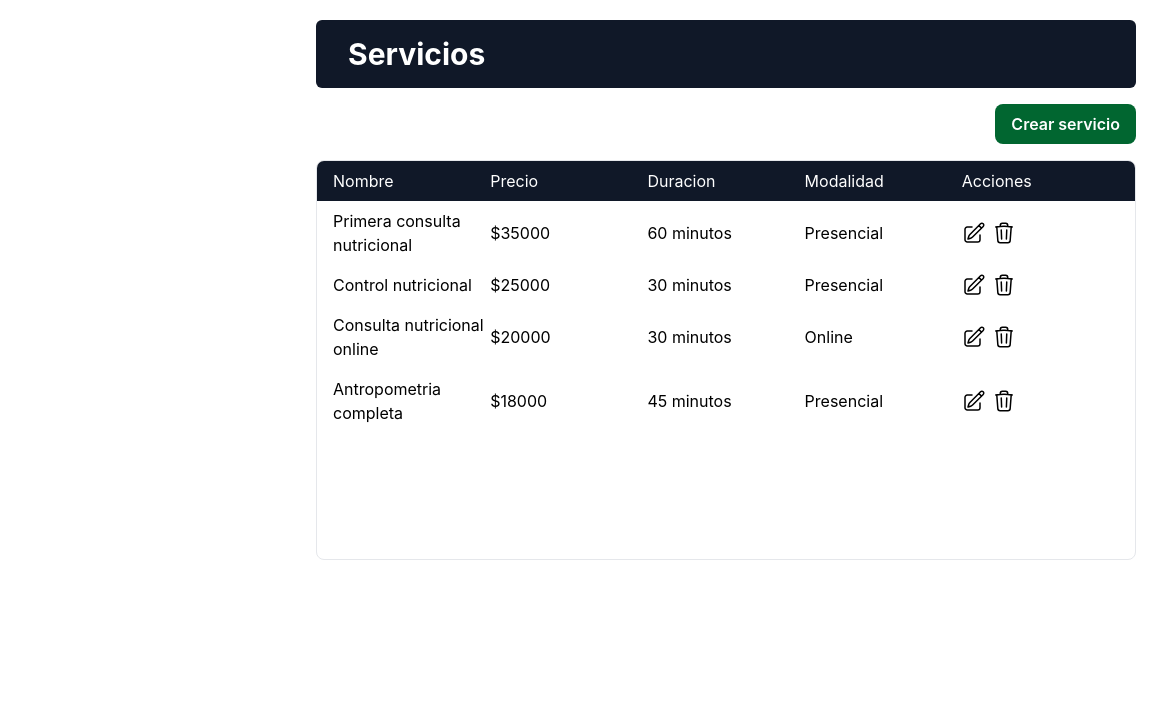
Test: AdministracionServicios › abre el formulario al presionar Crear servicio
Click the button "Crear servicio" at {"x": 1066, "y": 124}, box x1=995 y1=104 x2=1136 y2=144
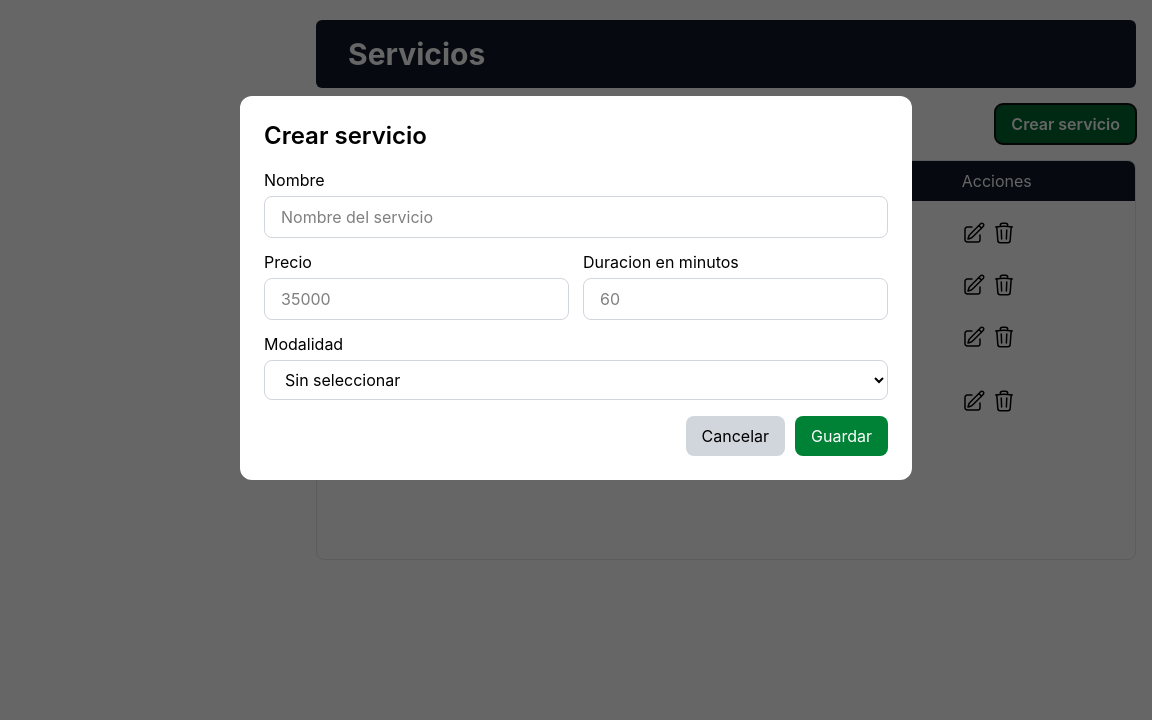
Expected: the field with placeholder "Nombre del servicio" is shown, x1=264 y1=196 x2=888 y2=238
Expected: the button "Guardar" is shown, x1=795 y1=416 x2=888 y2=456
